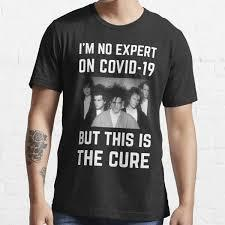Tshirt: (28, 3, 198, 225)
